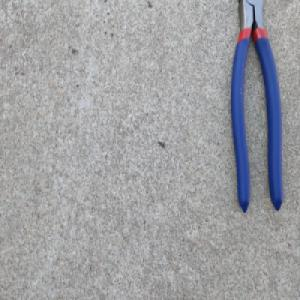Pliers: (229, 0, 285, 214)
